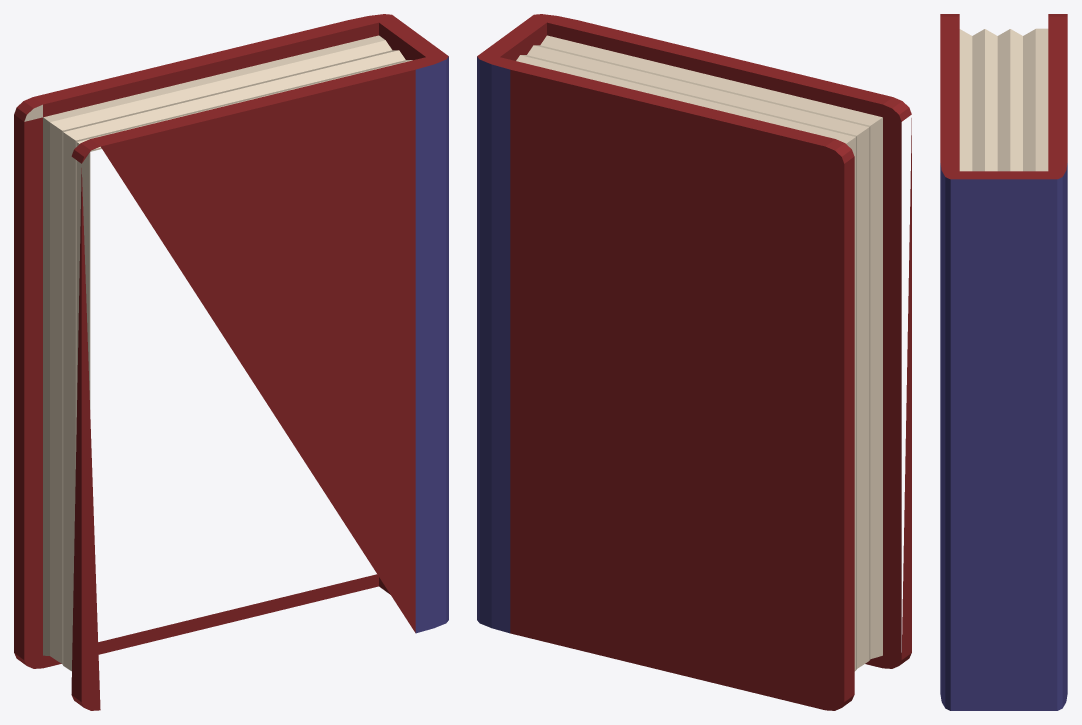
The model's file is Book Red.glb.
3 views of the same model, side by side, from view 1: azimuth 30°, elevation 25°; view 2: azimuth 150°, elevation 25°; view 3: azimuth 270°, elevation 25° (orthographic). The views are drawn at different scales.
Parts seen in each view (by area): view 1: book_red; view 2: book_red; view 3: book_red.
Part boxes in pixels (left/top/right/bottom): book_red: left=14, top=14, right=448, bottom=710; book_red: left=477, top=14, right=911, bottom=710; book_red: left=940, top=14, right=1067, bottom=710.
Bounding box in the file's own units: 0.2716 × 0.3928 × 0.0853.
